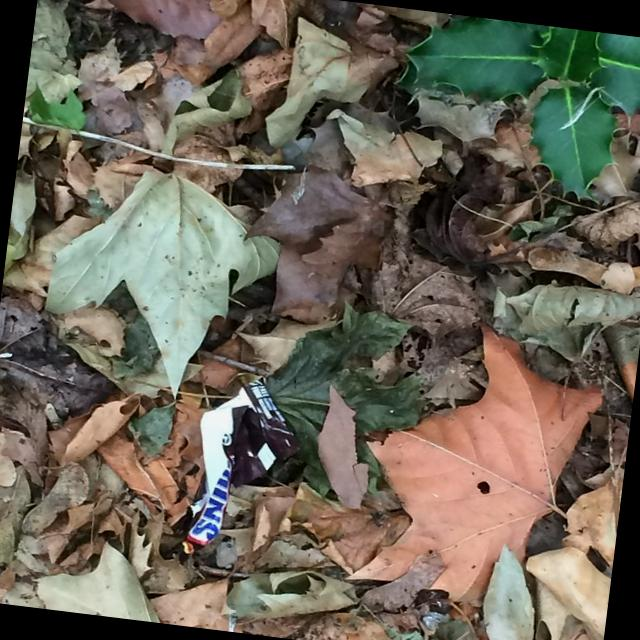Trash: (174, 378, 304, 565)
